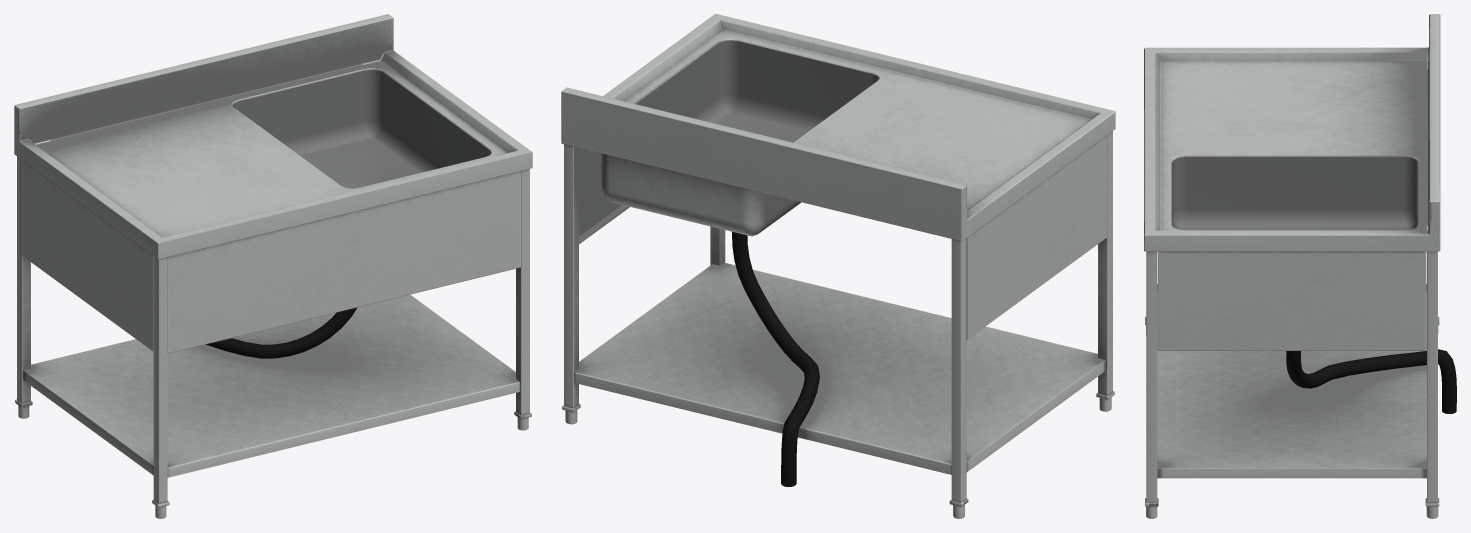
File: Sink_02.FBX
The picture shows the model from 3 angles, left to right: view 1: azimuth 30°, elevation 25°; view 2: azimuth 150°, elevation 25°; view 3: azimuth 270°, elevation 25°; orthographic projection. The views are drawn at different scales.
Parts seen in each view (by area): view 1: Sink_02; view 2: Sink_02; view 3: Sink_02.
Part boxes in pixels (<box>): Sink_02: <box>14,14,532,518</box>; Sink_02: <box>561,14,1115,518</box>; Sink_02: <box>1144,14,1456,518</box>.
Size of the model in its own units: 120 by 95.04 by 84.52.
Materials: 1 (1 with a texture image).
